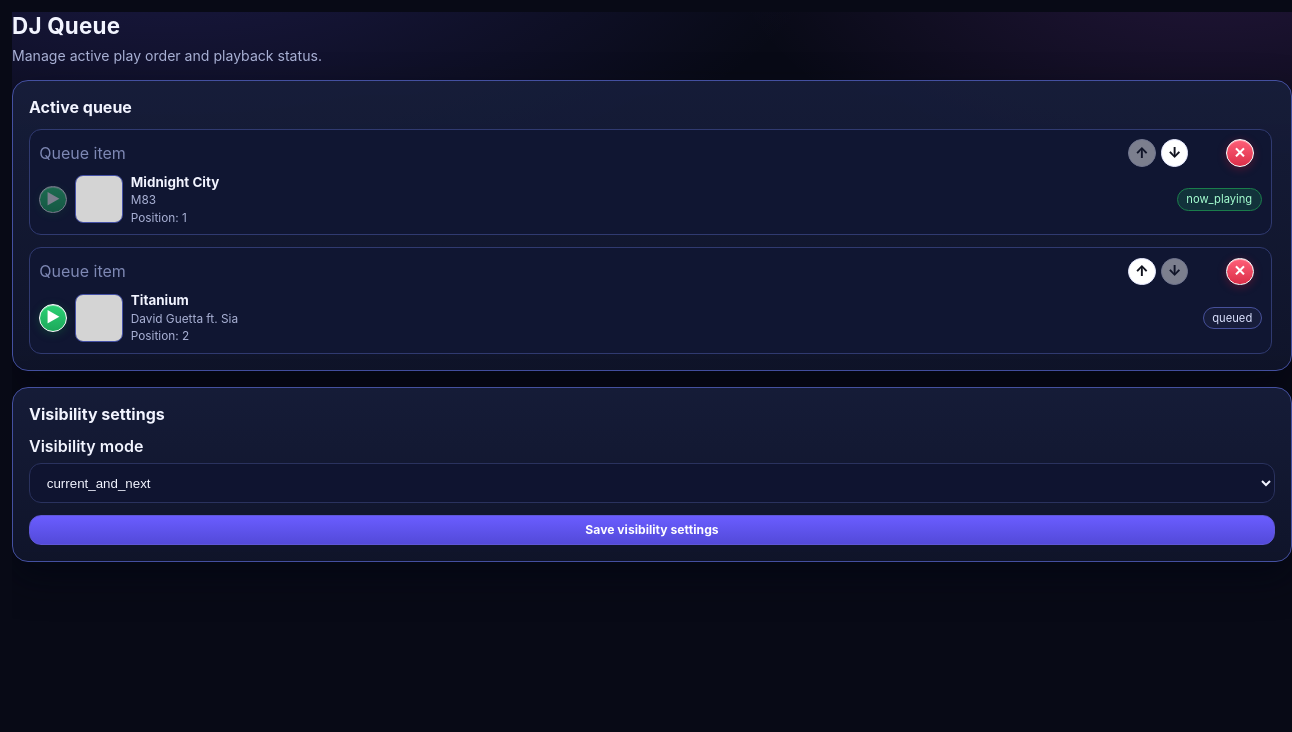
Test: QueuePage › handles mark now playing action
Check: the text "Midnight City" is shown, box [131,174,219,190]
Click the button named "Mark Now Playing" at (53,318), box [39,304,67,332]
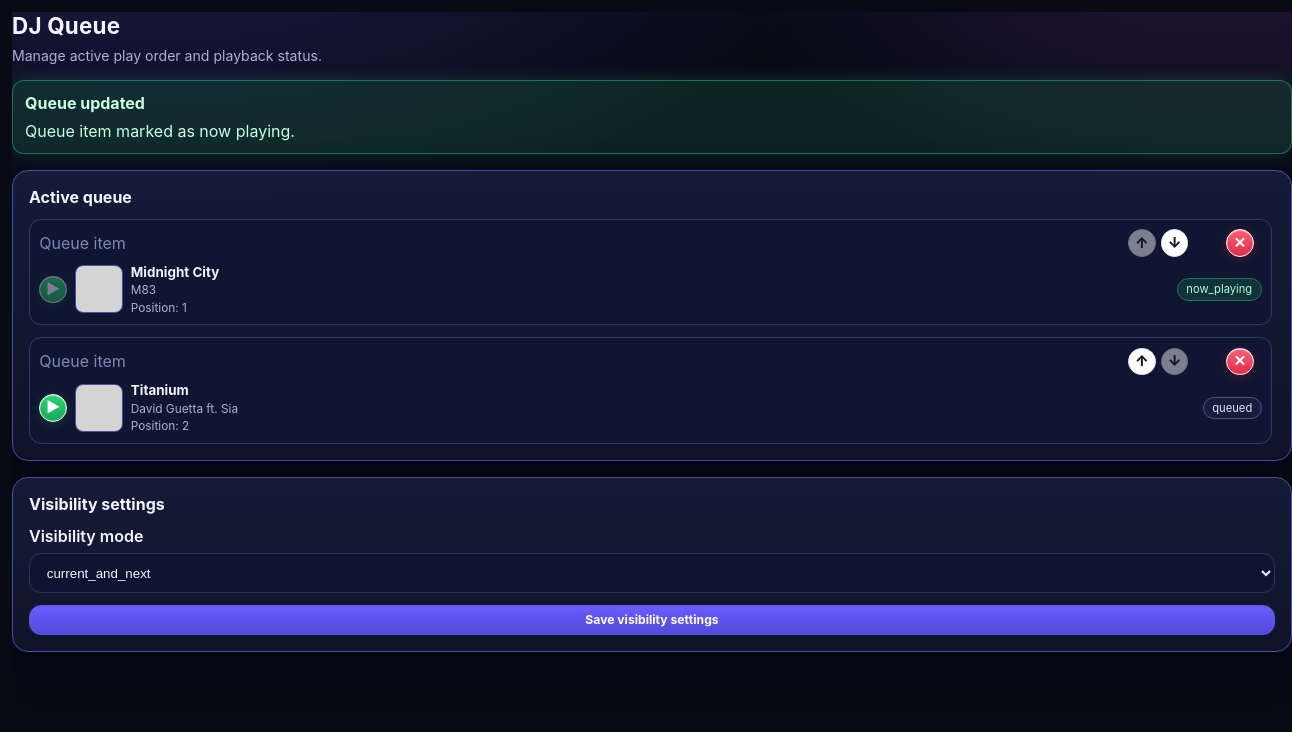
Check: the text "Queue item marked as now playing." is shown, box [25,121,295,141]
